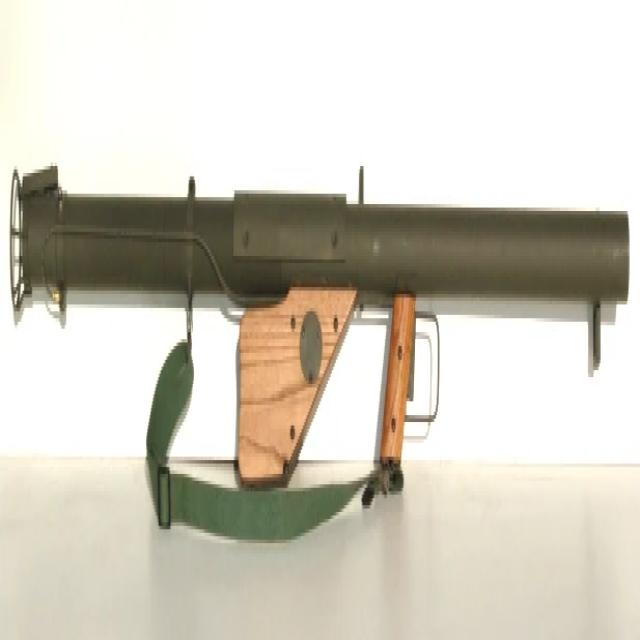bazooka: (9, 157, 640, 574)
